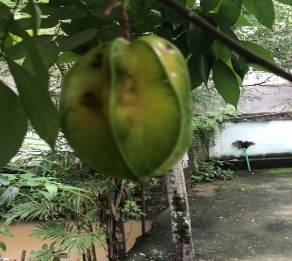Khe: (60, 35, 197, 185)
